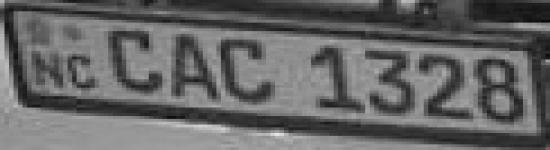1: (303, 42, 364, 116)
2: (417, 51, 475, 121)
3: (363, 48, 413, 118)
8: (475, 55, 528, 129)
A: (164, 32, 220, 104)
C: (217, 36, 291, 109), (104, 26, 163, 99), (67, 53, 104, 93)
N: (28, 50, 66, 90)
